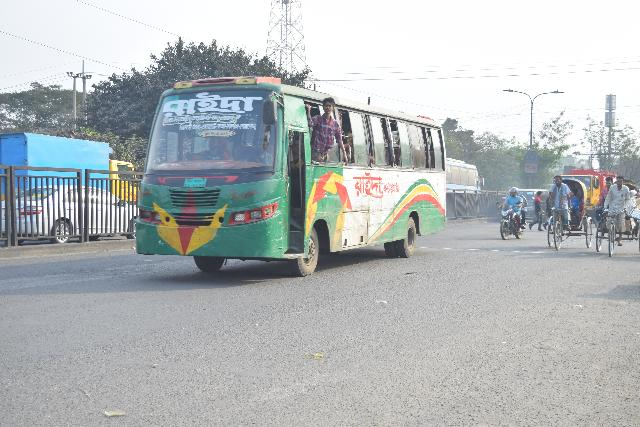bus: (132, 71, 450, 282)
car: (2, 184, 139, 243)
motorcycle: (496, 192, 530, 244)
truck: (564, 164, 617, 216)
